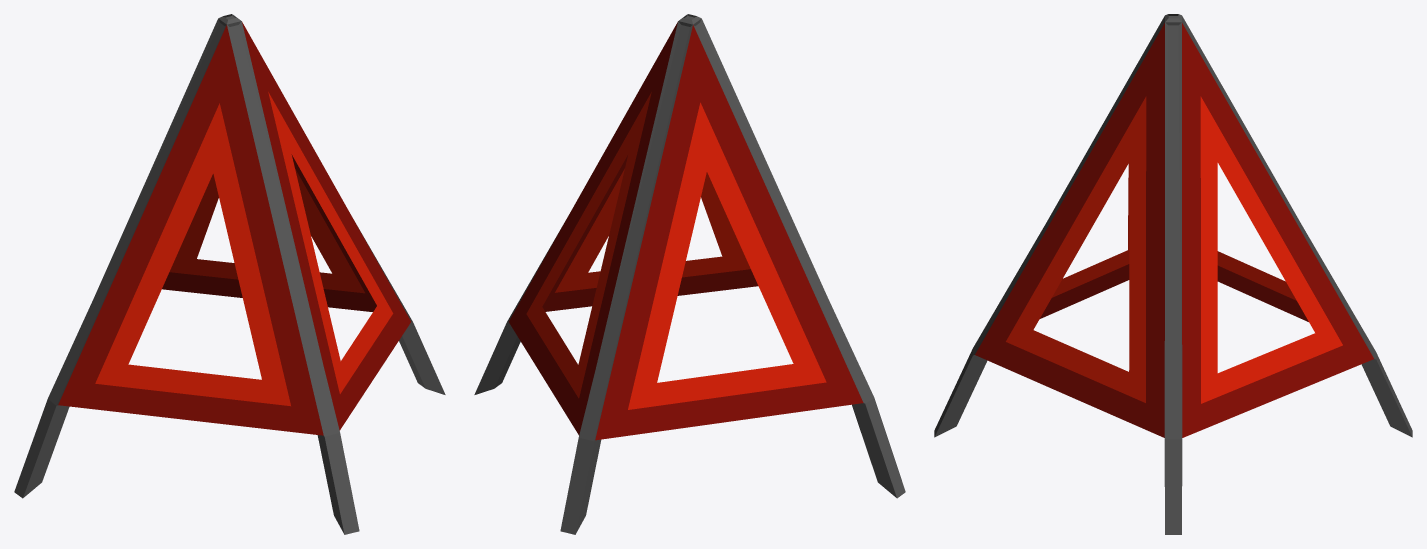
File: introble_sign.fbx
3 renders of one model, left to right at view 1: azimuth 30°, elevation 25°; view 2: azimuth 150°, elevation 25°; view 3: azimuth 270°, elevation 25°, orthographic. The views are drawn at different scales.
Visible parts, largest first — view 1: Cone; view 2: Cone; view 3: Cone.
Part boxes in pixels (<box>): Cone: <box>14,14,445,534</box>; Cone: <box>474,14,905,534</box>; Cone: <box>934,14,1412,534</box>.
Bounding box in the file's own units: 195 × 188 × 195.
